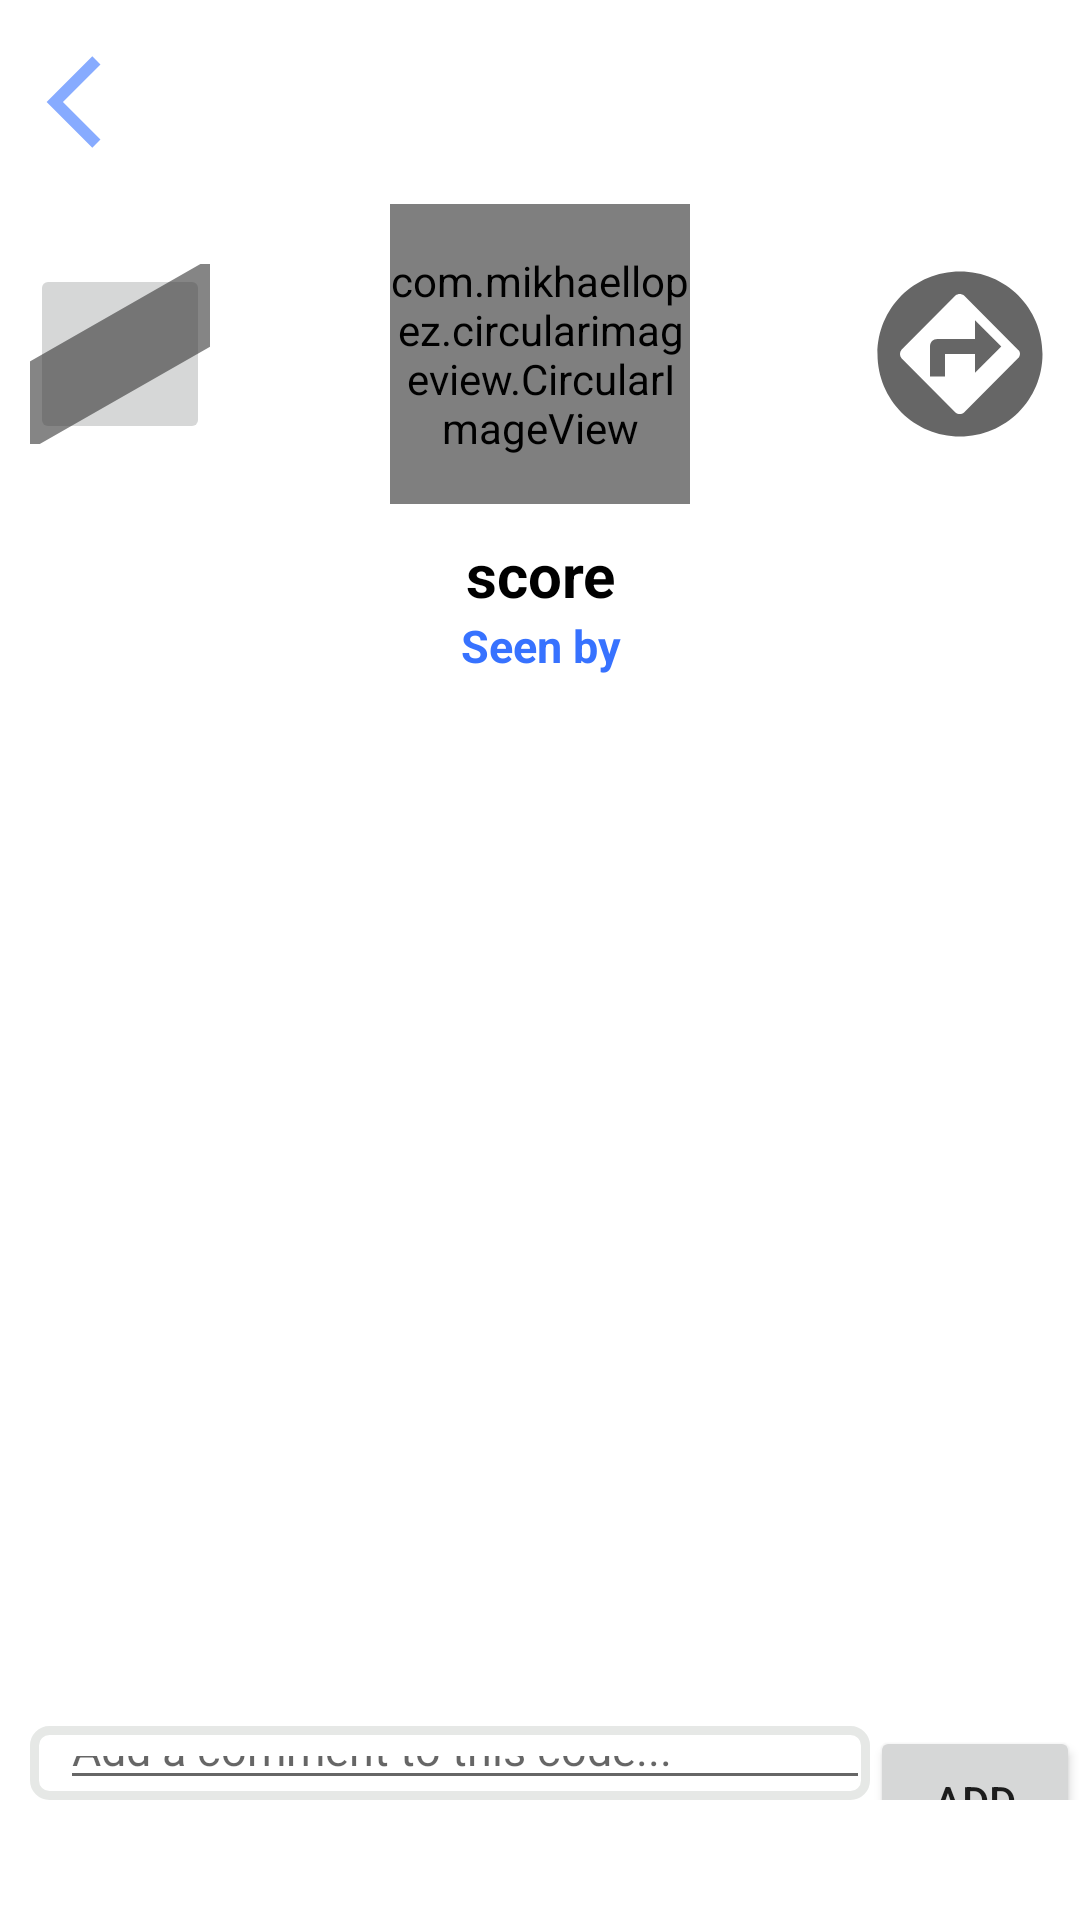

Icon bounding boxes for this 1080 x 1920 phone screenshot, format BBox(x1, y1, x2, y2):
assistant direction: BBox(877, 271, 1043, 437)
backbtn: BBox(47, 56, 101, 148)
